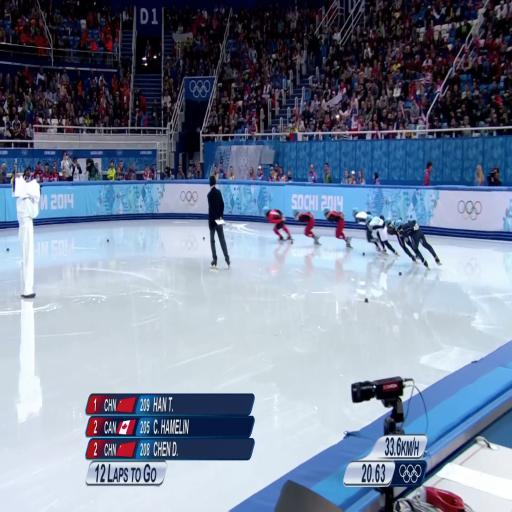Skater: (395, 220, 441, 267), (386, 219, 417, 262), (353, 208, 381, 251), (369, 216, 398, 255), (324, 209, 351, 248), (263, 208, 293, 242), (294, 211, 320, 245)
